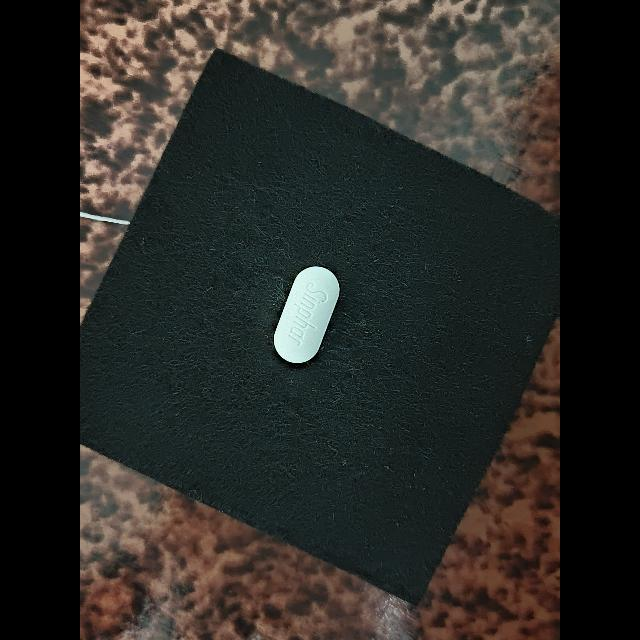Intact Pill: (273, 266, 340, 364)
